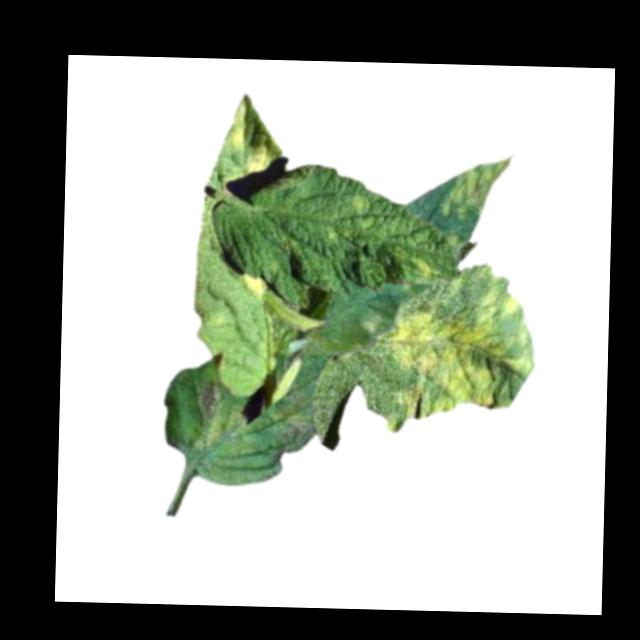Leaf_Mold: (386, 290, 542, 436), (440, 152, 517, 223), (193, 380, 238, 451), (221, 95, 248, 149), (247, 143, 274, 176), (409, 253, 438, 280), (351, 191, 373, 222), (243, 273, 268, 298)
